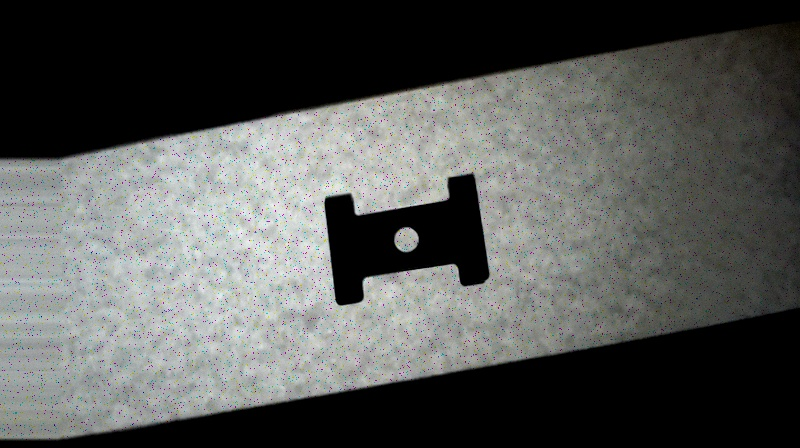O002: (321, 171, 491, 306)
